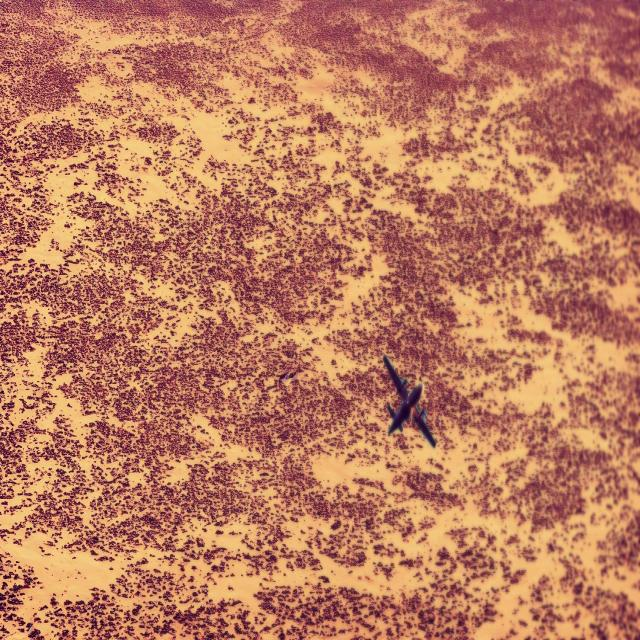airplane: (382, 354, 437, 448)
